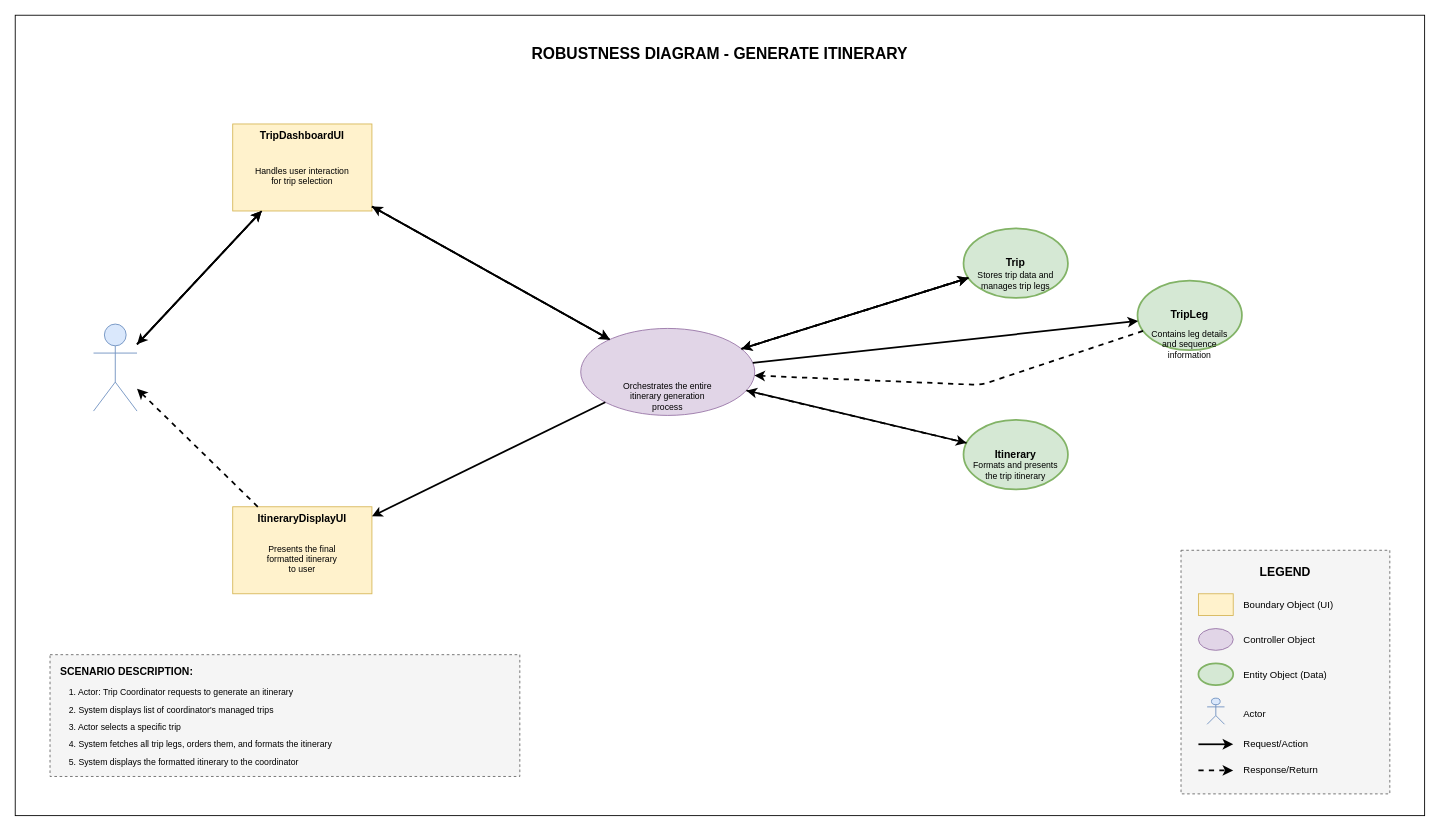
The diagram is 1440 pixels wide and 831 high, and some of its shapes have lost their labels. Here are the shapes that lost their labels. From the top down, the box of each, then its label:
(93, 323, 137, 411): Trip Coordinator
(580, 328, 755, 415): ItineraryGenerationController
